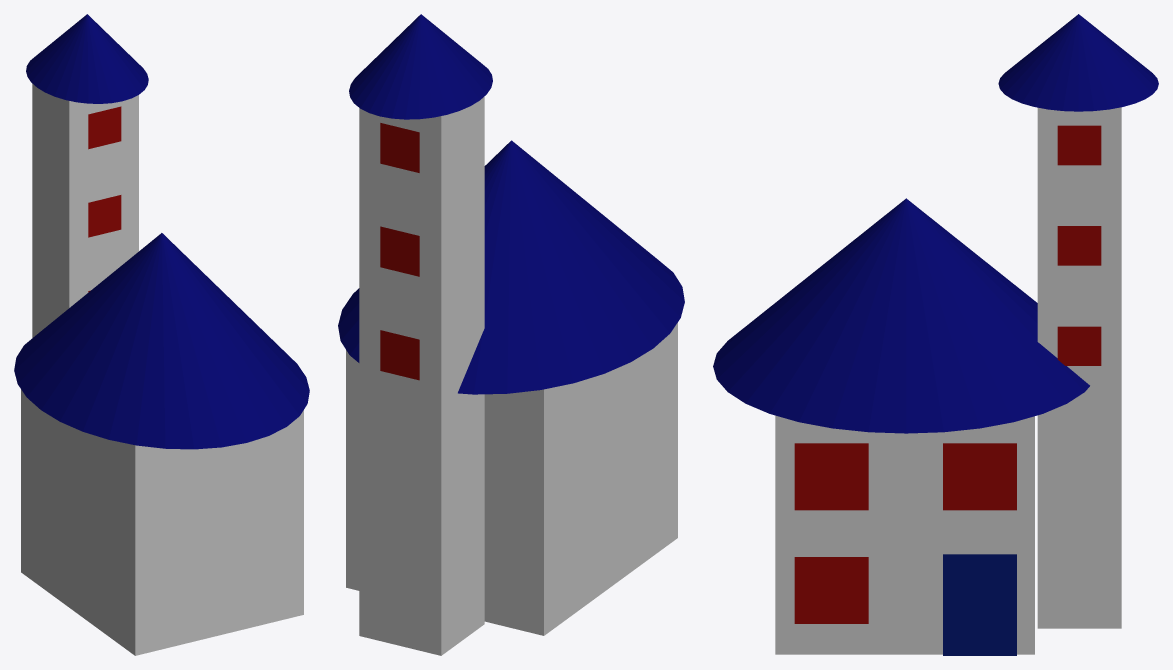
The model's file is mosque 1.fbx.
3 views of the same model, side by side, from view 1: azimuth 30°, elevation 25°; view 2: azimuth 150°, elevation 25°; view 3: azimuth 270°, elevation 25° (orthographic). The views are drawn at different scales.
Visible parts, largest first — view 1: Cone.002, Cube.012, Cube.013, Cube.014, Cone.003, Plane.044, Plane.045; view 2: Cube.014, Cone.002, Cube.012, Cube.013, Cone.003, Plane.042, Plane.043, Plane.041; view 3: Cone.002, Cube.014, Cube.012, Cube.013, Cone.003, Plane.037, Plane.026, Plane.028, Plane.036, Plane.038, Plane.039, Plane.040.
Part boxes in pixels (x1,y1,x2,y2): Cone.002: (14, 233, 309, 449); Cube.012: (21, 466, 303, 655); Cube.013: (21, 389, 303, 549); Cube.014: (32, 84, 138, 337); Cone.003: (26, 14, 148, 103); Plane.044: (88, 106, 121, 149); Plane.045: (88, 195, 121, 237); Cube.014: (359, 96, 484, 655); Cone.002: (338, 140, 684, 394); Cube.012: (346, 414, 677, 635); Cube.013: (346, 322, 677, 511); Cone.003: (349, 14, 492, 119); Plane.042: (380, 226, 419, 276); Plane.043: (380, 330, 419, 380); Plane.041: (380, 123, 419, 172); Cone.002: (713, 198, 1089, 433); Cube.014: (1037, 107, 1121, 628); Cube.012: (775, 534, 1034, 654); Cube.013: (775, 415, 1034, 534); Cone.003: (998, 14, 1158, 111); Plane.037: (943, 554, 1016, 655); Plane.026: (794, 443, 868, 510); Plane.028: (943, 443, 1016, 510); Plane.036: (794, 557, 868, 623); Plane.038: (1057, 125, 1101, 165); Plane.039: (1057, 226, 1101, 265); Plane.040: (1057, 326, 1101, 365).
Size of the model in its own units: 860 by 1781 by 1208.
